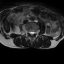CCS_normal: (31, 30, 32, 38)
LFS_normal: (34, 30, 36, 35)
LLS_normal: (32, 30, 34, 36)
RFS_normal: (27, 29, 29, 34)
RLS_normal: (29, 30, 31, 36)
